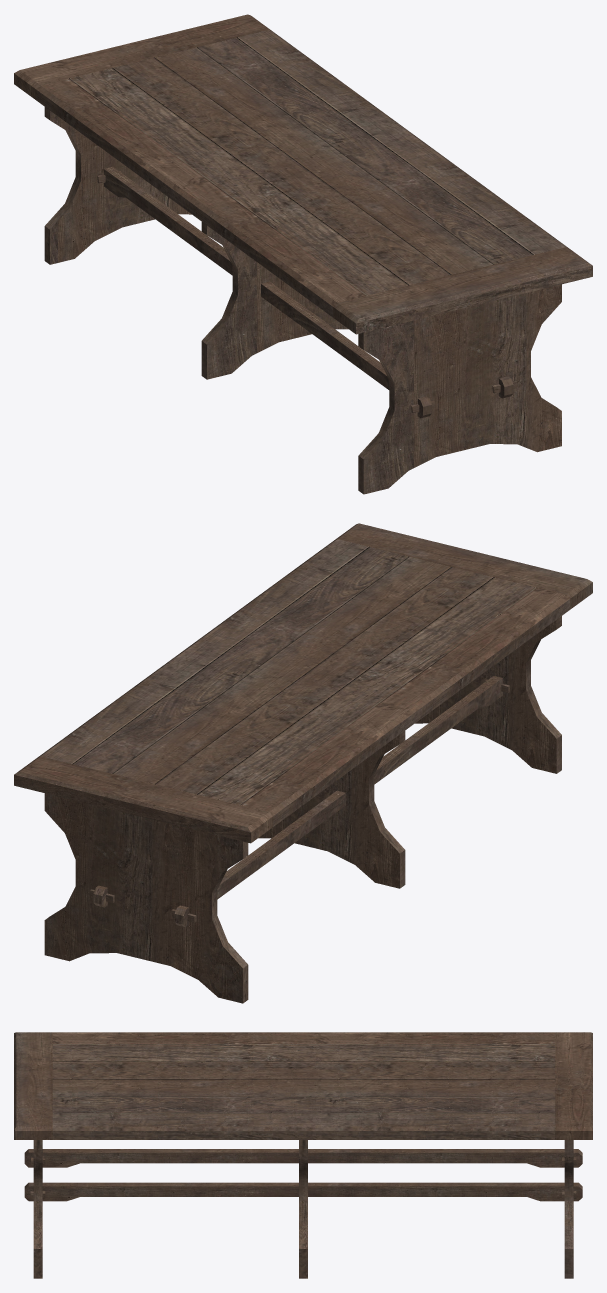
The model's file is mw_table_02.FBX.
3 views of the same model, one above another, from view 1: azimuth 30°, elevation 25°; view 2: azimuth 150°, elevation 25°; view 3: azimuth 270°, elevation 25° (orthographic). The views are drawn at different scales.
Parts seen in each view (by area): view 1: mw_table_02; view 2: mw_table_02; view 3: mw_table_02.
Part boxes in pixels (left/top/right/bottom): mw_table_02: left=14, top=14, right=592, bottom=494; mw_table_02: left=14, top=523, right=592, bottom=1003; mw_table_02: left=14, top=1032, right=592, bottom=1278.
Bounding box in the file's own units: 142 × 107 × 354.
